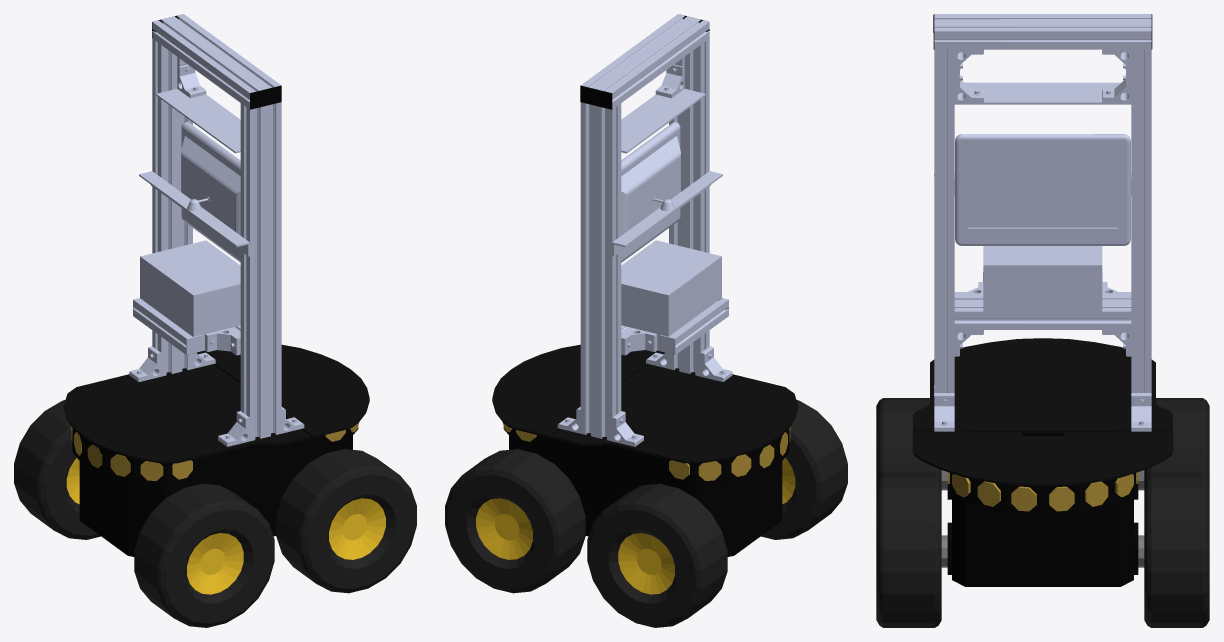
File: athos.dae
3 renders of one model, left to right at view 1: azimuth 30°, elevation 25°; view 2: azimuth 150°, elevation 25°; view 3: azimuth 270°, elevation 25°, orthographic. The views are drawn at different scales.
Parts seen in each view (by area): view 1: suporte_base, top_plate, p3at_back_right_wheel, p3at_front_right_wheel, base_link, arm_control_box, p3at_back_left_wheel, tv, suporte_kinect, p3at_back_right_hub, p3at_front_right_hub, suporte_depth (+2 smaller); view 2: suporte_base, top_plate, p3at_back_left_wheel, p3at_front_left_wheel, base_link, arm_control_box, p3at_back_right_wheel, tv, suporte_kinect, p3at_back_left_hub, p3at_front_left_hub, suporte_depth (+2 smaller); view 3: top_plate, tv, suporte_base, base_link, p3at_front_left_wheel, p3at_front_right_wheel, arm_control_box, suporte_kinect, suporte_armControl, p3at_back_left_wheel, p3at_back_right_wheel, suporte_depth (+1 smaller).
Boxes of the visible parts, bbox=[...] form: suporte_base: bbox=[129, 38, 304, 446]; top_plate: bbox=[63, 344, 369, 463]; p3at_back_right_wheel: bbox=[134, 483, 274, 627]; p3at_front_right_wheel: bbox=[276, 449, 416, 593]; base_link: bbox=[72, 427, 358, 556]; arm_control_box: bbox=[133, 240, 240, 355]; p3at_back_left_wheel: bbox=[14, 400, 100, 539]; tv: bbox=[181, 122, 240, 262]; suporte_kinect: bbox=[152, 14, 281, 109]; p3at_back_right_hub: bbox=[187, 533, 243, 594]; p3at_front_right_hub: bbox=[329, 498, 385, 559]; suporte_depth: bbox=[156, 89, 240, 153]; suporte_base: bbox=[557, 38, 732, 446]; top_plate: bbox=[492, 344, 798, 463]; p3at_back_left_wheel: bbox=[587, 483, 727, 627]; p3at_front_left_wheel: bbox=[445, 449, 585, 593]; base_link: bbox=[503, 427, 789, 556]; arm_control_box: bbox=[621, 240, 728, 355]; p3at_back_right_wheel: bbox=[761, 400, 847, 539]; tv: bbox=[621, 122, 680, 262]; suporte_kinect: bbox=[581, 14, 709, 109]; p3at_back_left_hub: bbox=[618, 533, 674, 594]; p3at_front_left_hub: bbox=[476, 498, 532, 559]; suporte_depth: bbox=[621, 89, 705, 153]; top_plate: bbox=[912, 338, 1173, 486]; tv: bbox=[955, 134, 1130, 245]; suporte_base: bbox=[934, 49, 1151, 431]; base_link: bbox=[947, 433, 1138, 586]; p3at_front_left_wheel: bbox=[1144, 475, 1209, 627]; p3at_front_right_wheel: bbox=[876, 475, 941, 627]; arm_control_box: bbox=[954, 246, 1131, 311]; suporte_kinect: bbox=[934, 14, 1151, 49]; suporte_armControl: bbox=[954, 294, 1131, 329]; p3at_back_left_wheel: bbox=[1144, 398, 1209, 482]; p3at_back_right_wheel: bbox=[876, 398, 941, 482]; suporte_depth: bbox=[954, 82, 1131, 104].
Size of the model in its own units: 0.5082 by 0.4899 by 0.9081.
